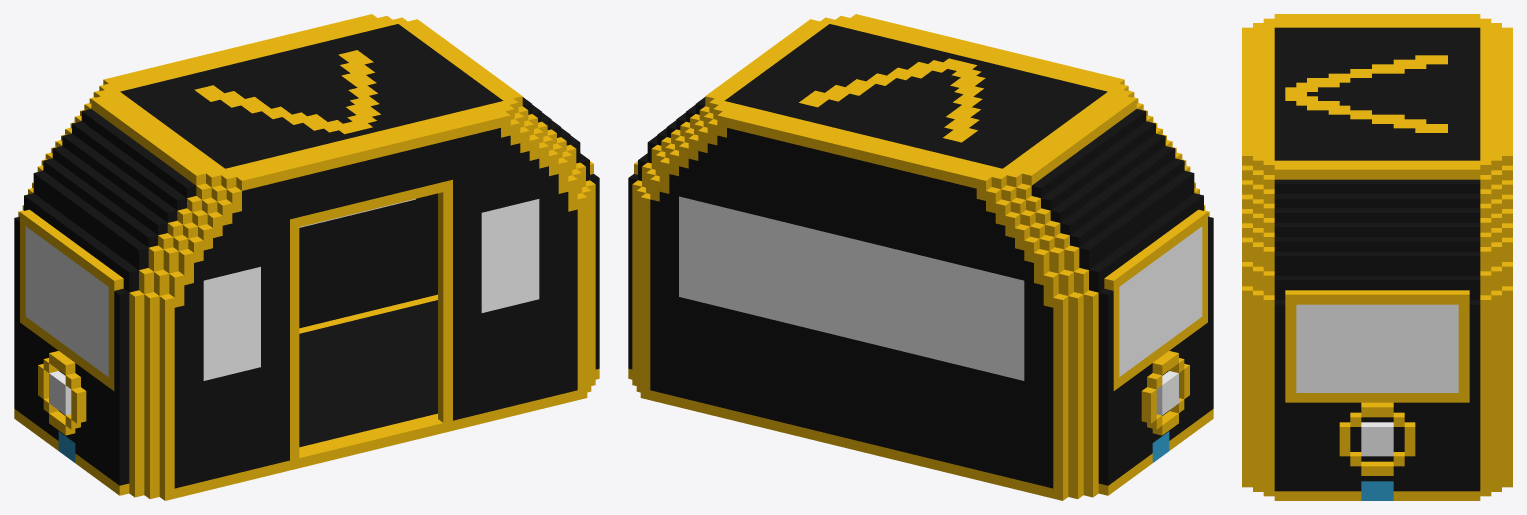
Rendered from Bus.fbx.
3 renders of one model, left to right at view 1: azimuth 30°, elevation 25°; view 2: azimuth 150°, elevation 25°; view 3: azimuth 270°, elevation 25°, orthographic. The views are drawn at different scales.
Parts seen in each view (by area): view 1: Bus; view 2: Bus; view 3: Bus.
Boxes of the visible parts, left/top/right/bottom form: Bus: left=14, top=14, right=599, bottom=500; Bus: left=628, top=14, right=1213, bottom=500; Bus: left=1242, top=14, right=1512, bottom=500.
Bounding box in the file's own units: 5.2 × 3 × 2.5.
Materials: 1 (1 with a texture image).
